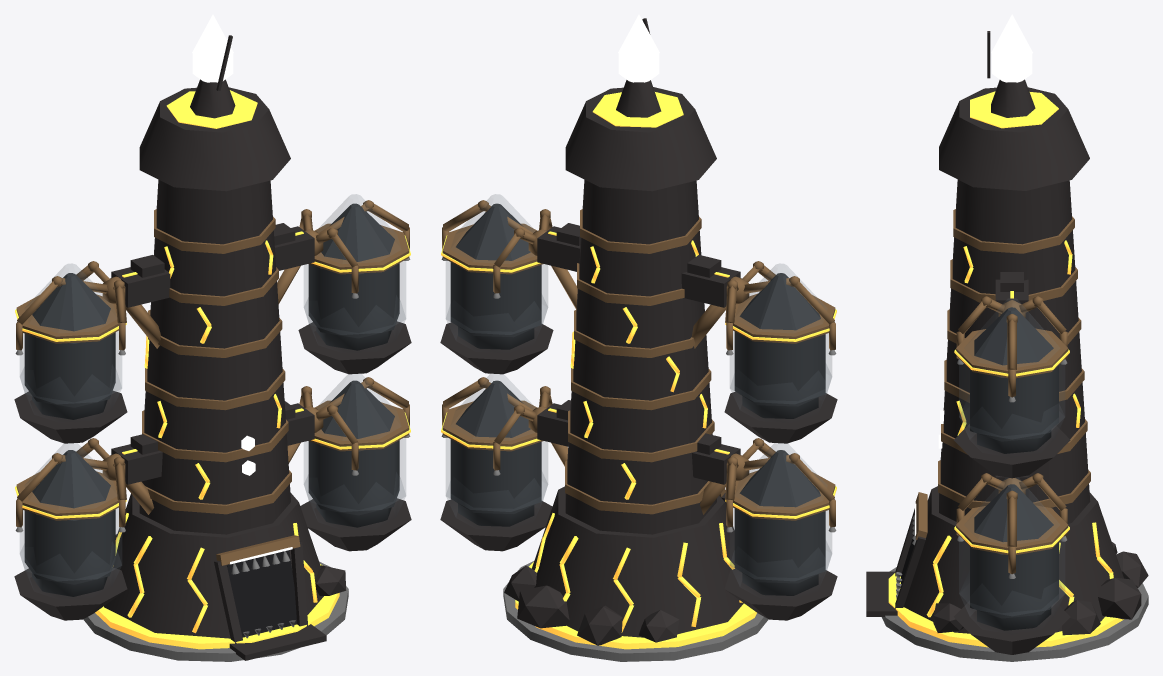
Rendered from EMBER_Vat_T3.glb.
The picture shows the model from 3 angles, left to right: view 1: azimuth 30°, elevation 25°; view 2: azimuth 150°, elevation 25°; view 3: azimuth 270°, elevation 25°; orthographic projection.
Parts seen in each view (by area): view 1: EMBER_Vat_T3; view 2: EMBER_Vat_T3; view 3: EMBER_Vat_T3.
Boxes of the visible parts, x1,y1,x2,y2 form: EMBER_Vat_T3: [14, 14, 411, 661]; EMBER_Vat_T3: [440, 14, 837, 661]; EMBER_Vat_T3: [866, 14, 1148, 661].
Size of the model in its own units: 5.82 by 8.34 by 3.62.
